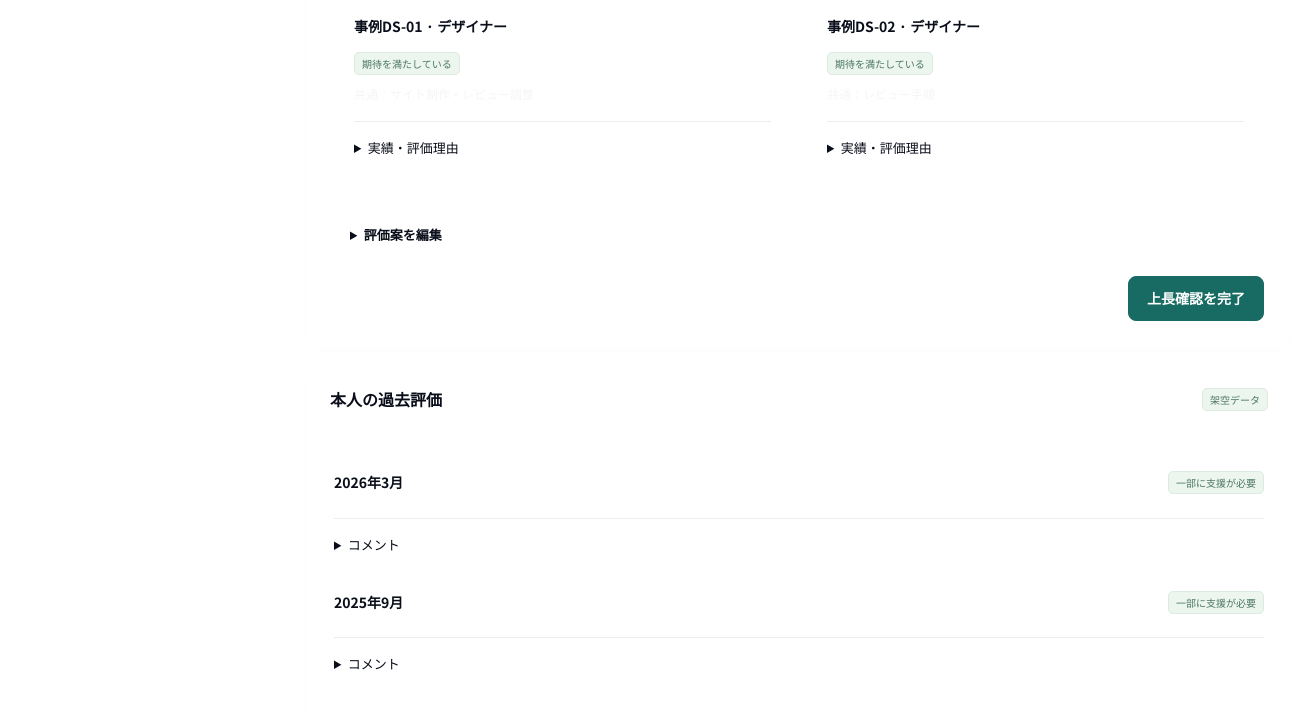
Test: 社員別の評価案 › 説明は閉じて表示し、本人の過去評価は社員別に確認できる
(page scrolled)
expect the element "本人の過去評価" shows "2026年3月": met, box top-left (334, 472), bottom-right (403, 492)
Click the heading "コメント" below "2026年3月". click: (374, 545)
box: top-left (348, 535), bottom-right (400, 554)
(page scrolled)
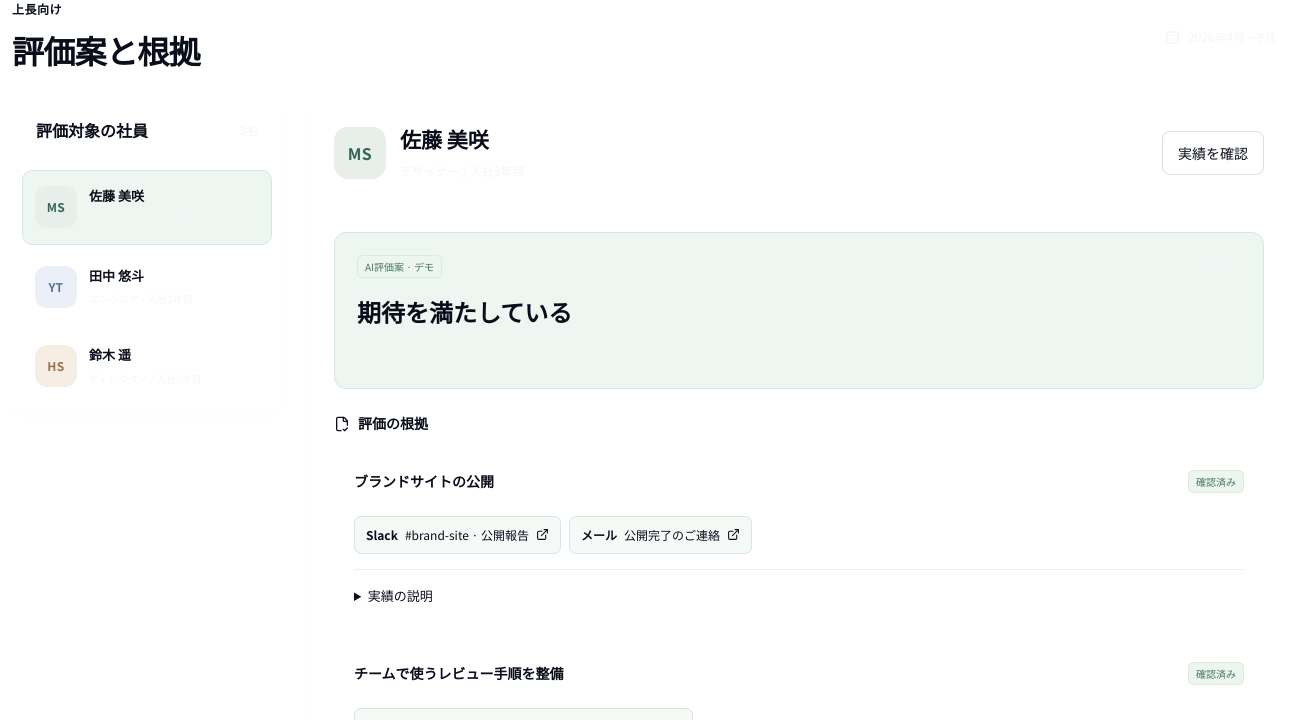
Click the button "YT 田中 悠斗 エンジニア / 入社2年目". click: (147, 287)
box: top-left (22, 250), bottom-right (272, 324)
(page scrolled)
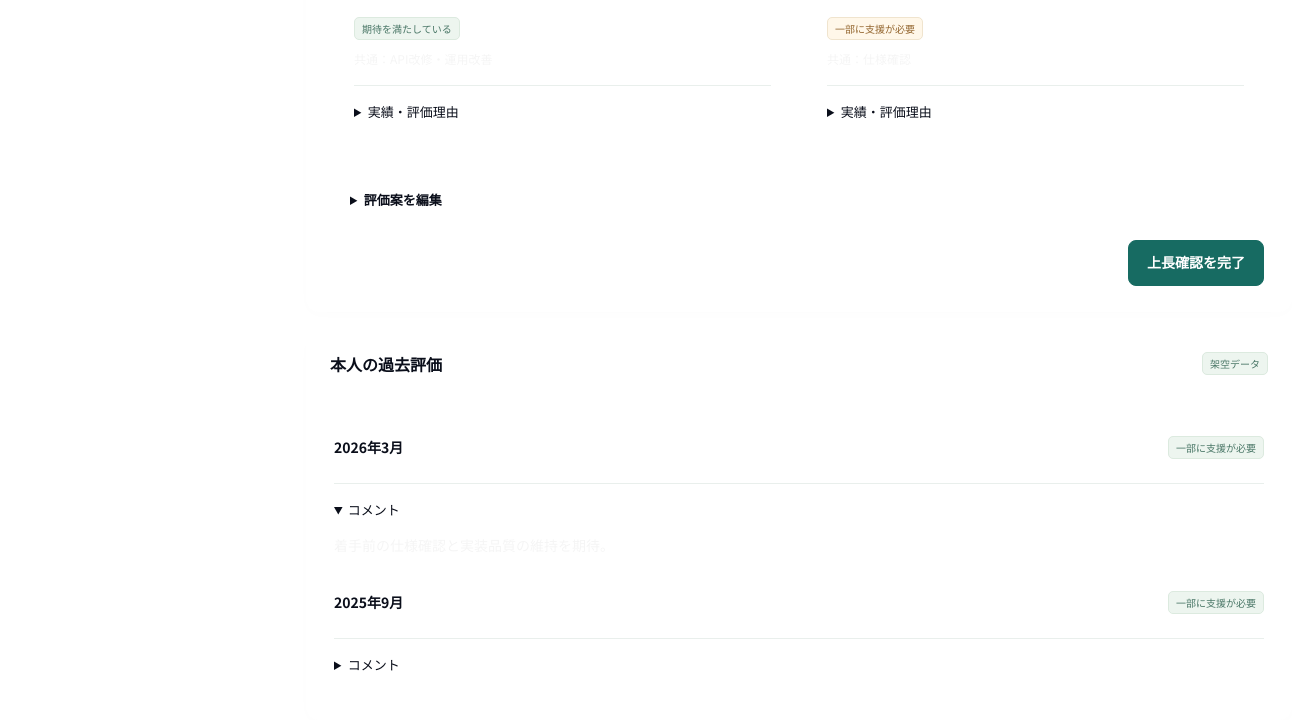
expect the element "本人の過去評価" no longer shows "担当領域の自立": met, box top-left (306, 334), bottom-right (1291, 719)
